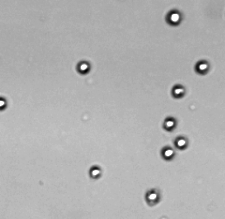Living Cell: (164, 8, 184, 27), (144, 187, 163, 206), (170, 82, 187, 100), (74, 59, 93, 75), (88, 162, 104, 181), (194, 58, 211, 75), (161, 115, 178, 132), (160, 144, 176, 161), (174, 134, 189, 150), (1, 95, 10, 112)
